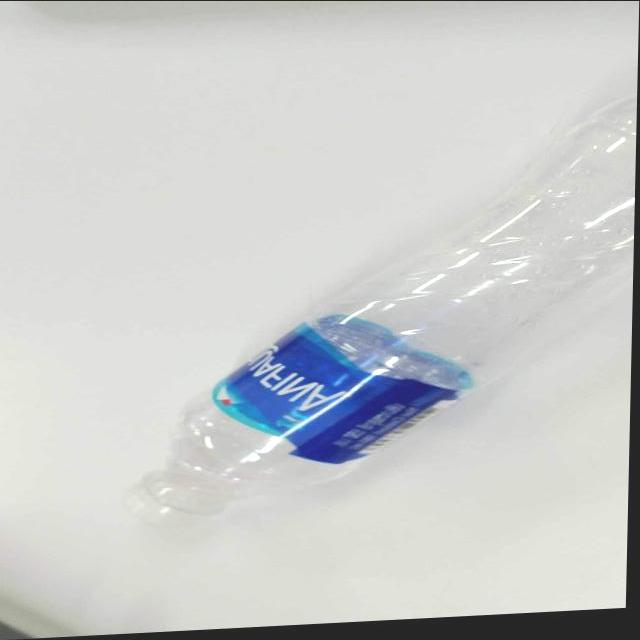General: (122, 308, 475, 525)
Sharps: (121, 92, 634, 523)
